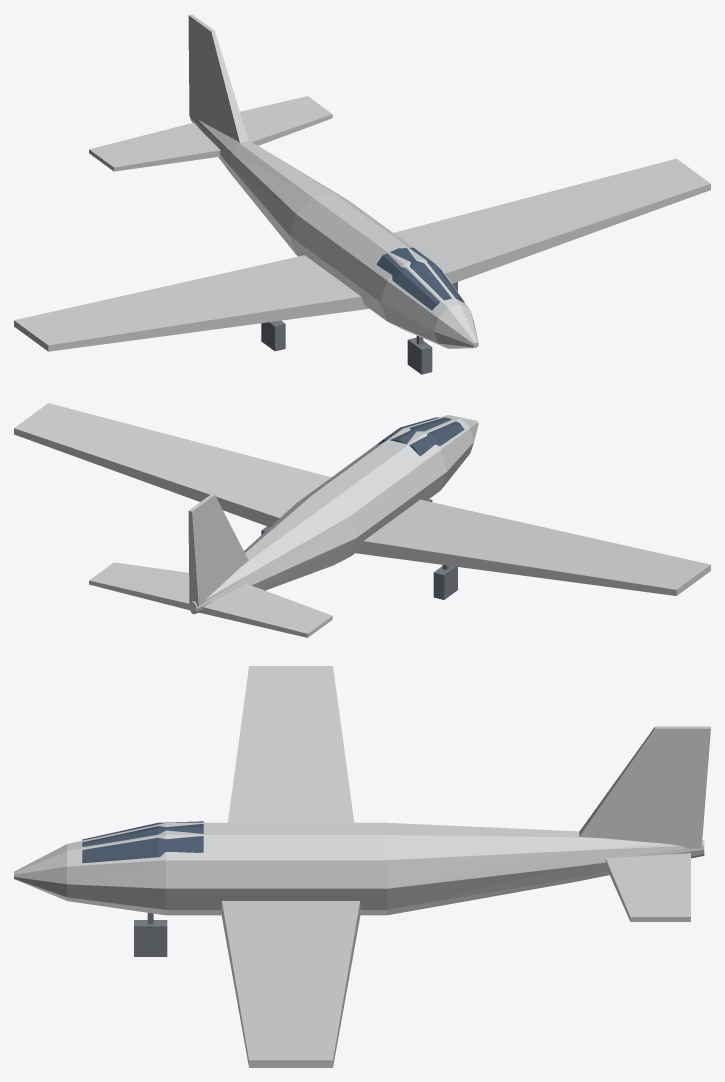
The model's file is generic.glb.
3 renders of one model, top to bottom at view 1: azimuth 30°, elevation 25°; view 2: azimuth 150°, elevation 25°; view 3: azimuth 270°, elevation 25°, orthographic. The views are drawn at different scales.
Parts seen in each view (by area): view 1: generic; view 2: generic; view 3: generic.
Part boxes in pixels (x1,y1,x2,y2): generic: [14, 14, 710, 374]; generic: [14, 403, 710, 637]; generic: [14, 666, 710, 1067].
Bounding box in the file's own units: 1 × 0.2675 × 0.7472.
